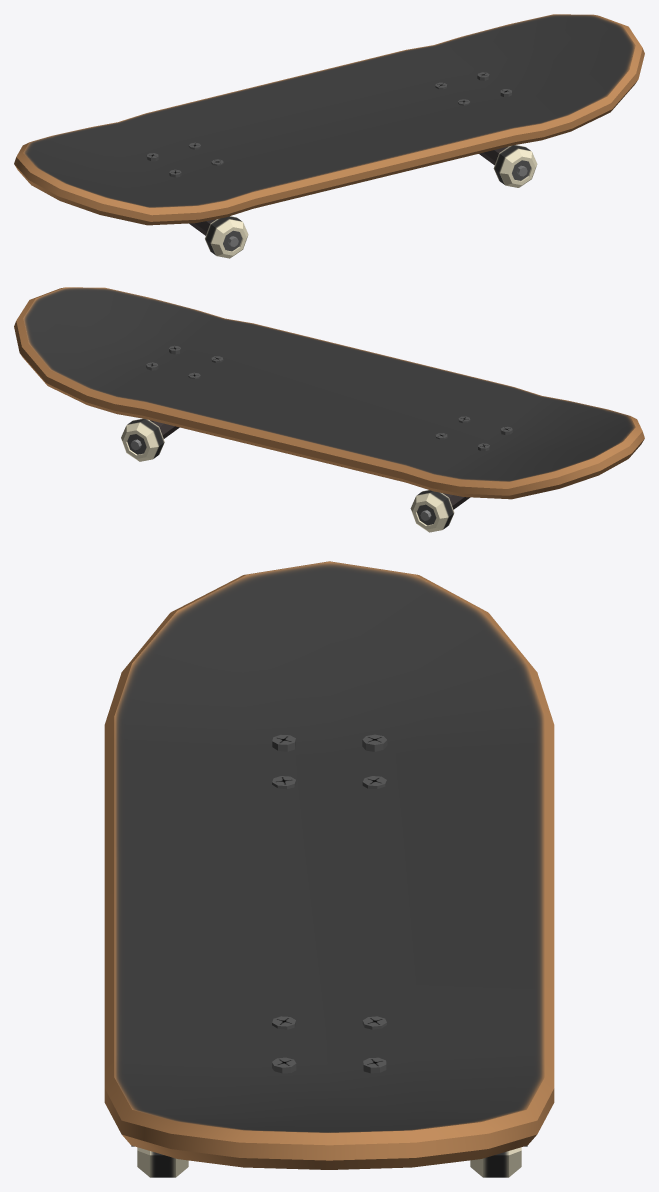
File: low_poly_skateboard.glb
The picture shows the model from 3 angles, top to bottom: view 1: azimuth 30°, elevation 25°; view 2: azimuth 150°, elevation 25°; view 3: azimuth 270°, elevation 25°; orthographic projection. The views are drawn at different scales.
Parts seen in each view (by area): view 1: Skateboard_geo; view 2: Skateboard_geo; view 3: Skateboard_geo.
Part boxes in pixels (<box>): Skateboard_geo: <box>14,14,644,258</box>; Skateboard_geo: <box>14,287,644,532</box>; Skateboard_geo: <box>104,561,554,1177</box>.
Size of the model in its own units: 2.26 by 0.3362 by 0.7297.
1 material, 1 textured.
